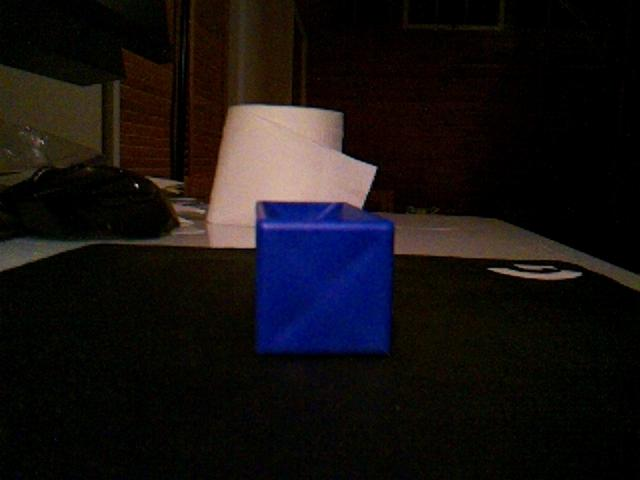blue: (253, 199, 396, 358)
